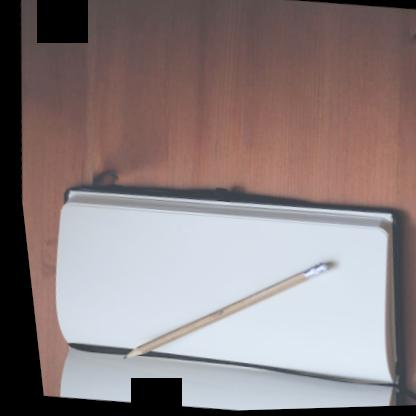pencil: (107, 256, 333, 367)
